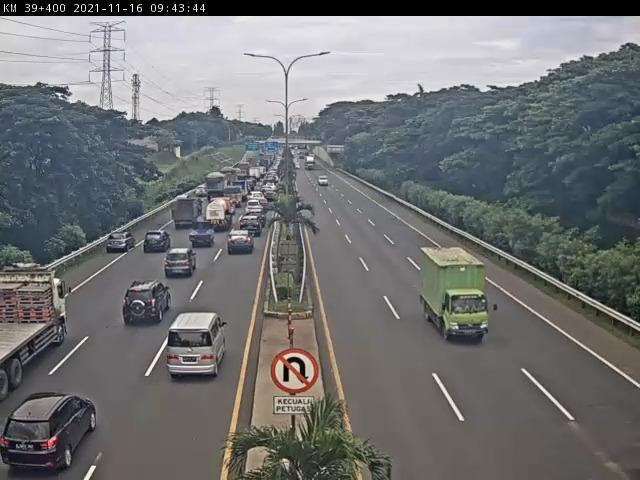car: (1, 387, 103, 480), (159, 307, 236, 388), (114, 281, 174, 333), (160, 247, 199, 285), (101, 226, 138, 257), (225, 225, 259, 258), (142, 228, 174, 259), (187, 220, 217, 252), (238, 218, 264, 240), (246, 207, 269, 229), (245, 201, 265, 218), (194, 185, 209, 201), (252, 191, 267, 205), (317, 177, 331, 190), (265, 189, 279, 202)
truck: (1, 264, 69, 405), (412, 241, 495, 346), (166, 190, 205, 232), (206, 198, 237, 236), (199, 175, 227, 208), (223, 184, 247, 208), (217, 165, 237, 187)
